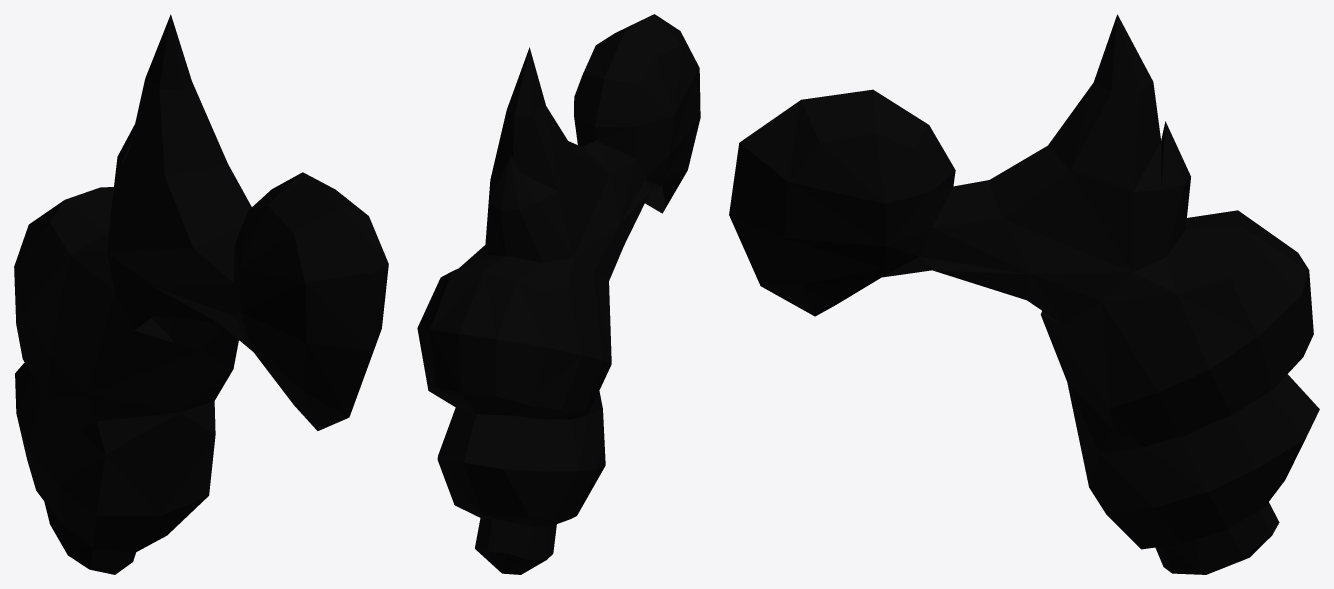
Rendered from 0448_toufa.glb.
The picture shows the model from 3 angles, left to right: view 1: azimuth 30°, elevation 25°; view 2: azimuth 150°, elevation 25°; view 3: azimuth 270°, elevation 25°; orthographic projection. The views are drawn at different scales.
Size of the model in its own units: 0.7205 by 2.2 by 2.04.
1 material, 1 textured.
